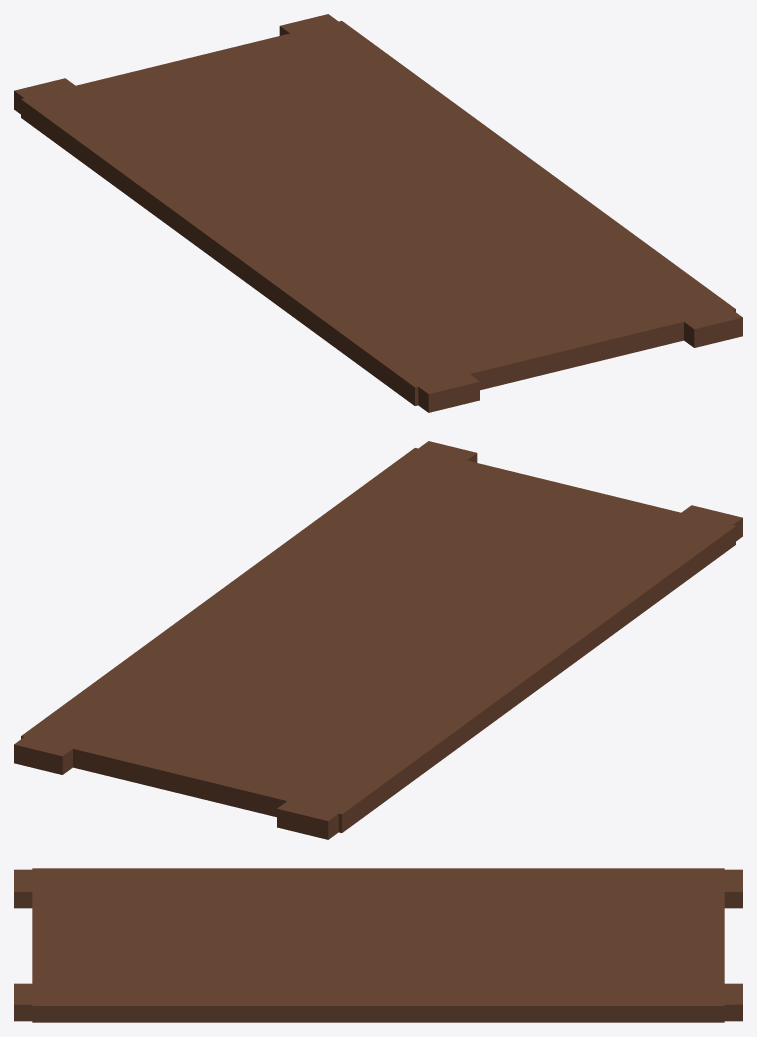
Rendered from SallePasPerdus_Sol.fbx.
3 renders of one model, top to bottom at view 1: azimuth 30°, elevation 25°; view 2: azimuth 150°, elevation 25°; view 3: azimuth 270°, elevation 25°, orthographic. The views are drawn at different scales.
Visible parts, largest first — view 1: Sol; view 2: Sol; view 3: Sol.
Boxes of the visible parts, left/top/right/bottom form: Sol: left=14, top=14, right=742, bottom=412; Sol: left=14, top=441, right=742, bottom=839; Sol: left=14, top=868, right=742, bottom=1022.
Bounding box in the file's own units: 9.67 × 0.5404 × 21.63.
